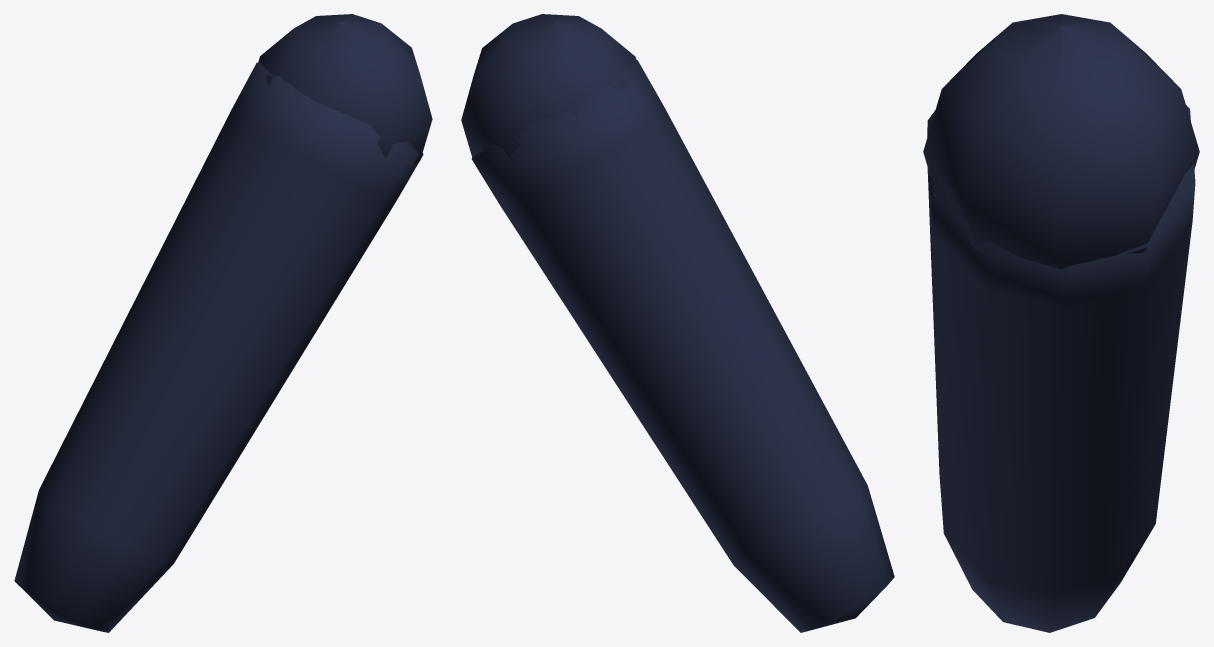
File: upperarm_R.obj
3 views of the same model, side by side, from view 1: azimuth 30°, elevation 25°; view 2: azimuth 150°, elevation 25°; view 3: azimuth 270°, elevation 25° (orthographic). The views are drawn at different scales.
Visible parts, largest first — view 1: upperarm_R; view 2: upperarm_R; view 3: upperarm_R.
Part boxes in pixels (box(x1,y1,x2,y2)): upperarm_R: box(14, 14, 432, 632); upperarm_R: box(461, 14, 894, 632); upperarm_R: box(923, 14, 1199, 632).
Bounding box in the file's own units: 0.2442 × 0.3107 × 0.0998.
